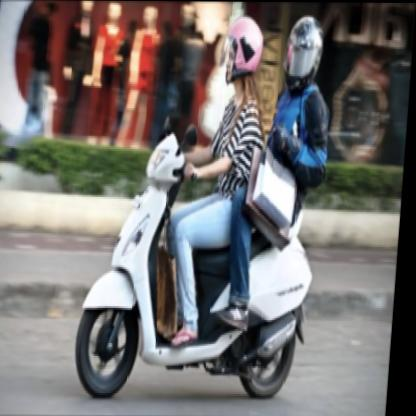With Helmet: (213, 9, 271, 88), (282, 13, 329, 93)
